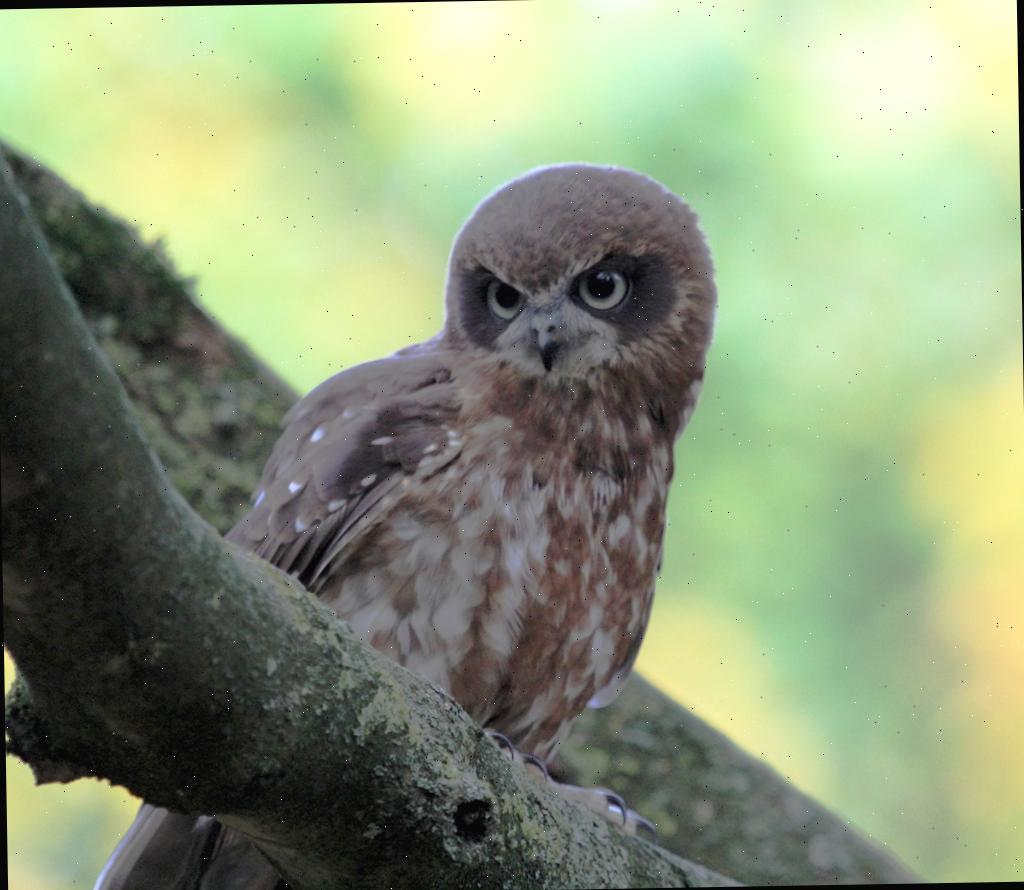Owl: (199, 163, 746, 846)
